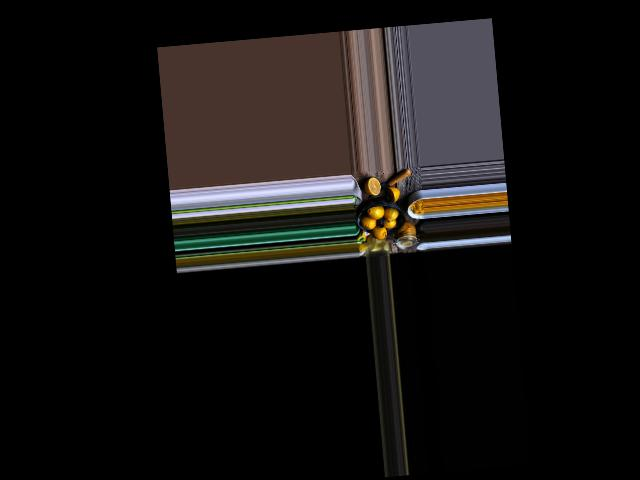lemon: (384, 205, 399, 221)
